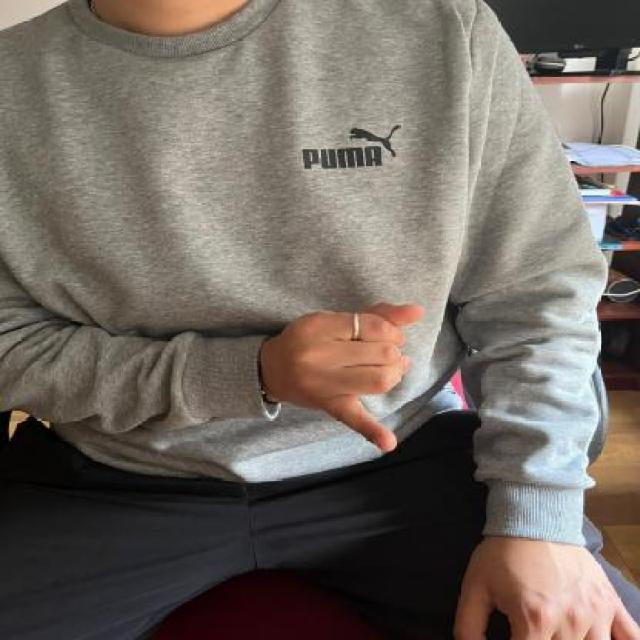Z: (274, 290, 428, 459)
